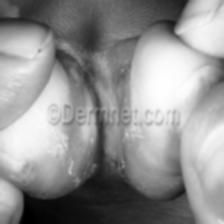Toxin: (110, 151, 134, 179), (86, 82, 110, 104), (95, 125, 113, 146)
